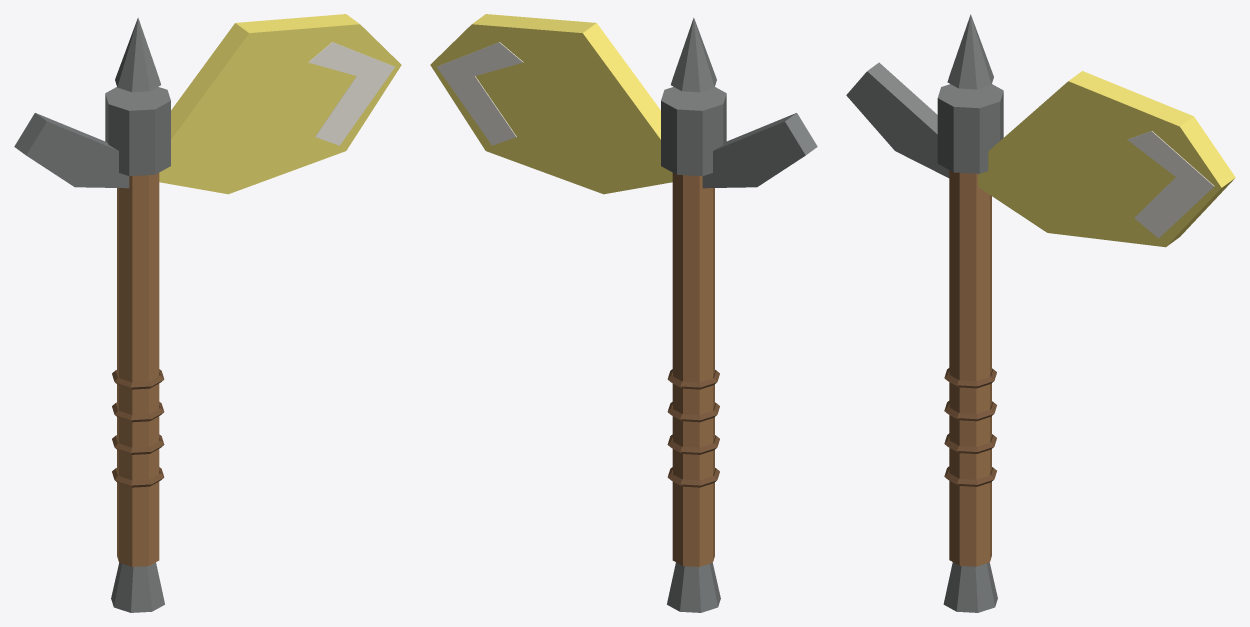
File: t7_axe.glb
The picture shows the model from 3 angles, left to right: view 1: azimuth 30°, elevation 25°; view 2: azimuth 150°, elevation 25°; view 3: azimuth 330°, elevation 25°; orthographic projection.
Visible parts, largest first — view 1: RightBlade, WoodHandle, TopSocket, BackSpike, RightBladeEdge, BottomPommel, TopSpike; view 2: RightBlade, WoodHandle, TopSocket, BackSpike, RightBladeEdge, BottomPommel, TopSpike; view 3: RightBlade, WoodHandle, BackSpike, TopSocket, RightBladeEdge, BottomPommel, TopSpike.
Part boxes in pixels (left/top/right/bottom): RightBlade: left=159, top=14, right=401, bottom=194; WoodHandle: left=117, top=173, right=159, bottom=566; TopSocket: left=105, top=87, right=170, bottom=176; BackSpike: left=14, top=113, right=129, bottom=188; RightBladeEdge: left=308, top=42, right=394, bottom=145; BottomPommel: left=111, top=562, right=164, bottom=612; TopSpike: left=115, top=17, right=160, bottom=92; RightBlade: left=430, top=14, right=672, bottom=194; WoodHandle: left=672, top=173, right=714, bottom=566; TopSocket: left=661, top=87, right=726, bottom=176; BackSpike: left=702, top=113, right=817, bottom=188; RightBladeEdge: left=437, top=42, right=523, bottom=145; BottomPommel: left=667, top=562, right=720, bottom=612; TopSpike: left=671, top=17, right=716, bottom=92; RightBlade: left=978, top=71, right=1235, bottom=247; WoodHandle: left=949, top=170, right=991, bottom=566; BackSpike: left=846, top=62, right=949, bottom=177; TopSocket: left=937, top=84, right=1003, bottom=173; RightBladeEdge: left=1127, top=131, right=1214, bottom=238; BottomPommel: left=943, top=562, right=997, bottom=612; TopSpike: left=947, top=14, right=993, bottom=89.
Size of the model in its own units: 1.08 by 1.61 by 0.17.
